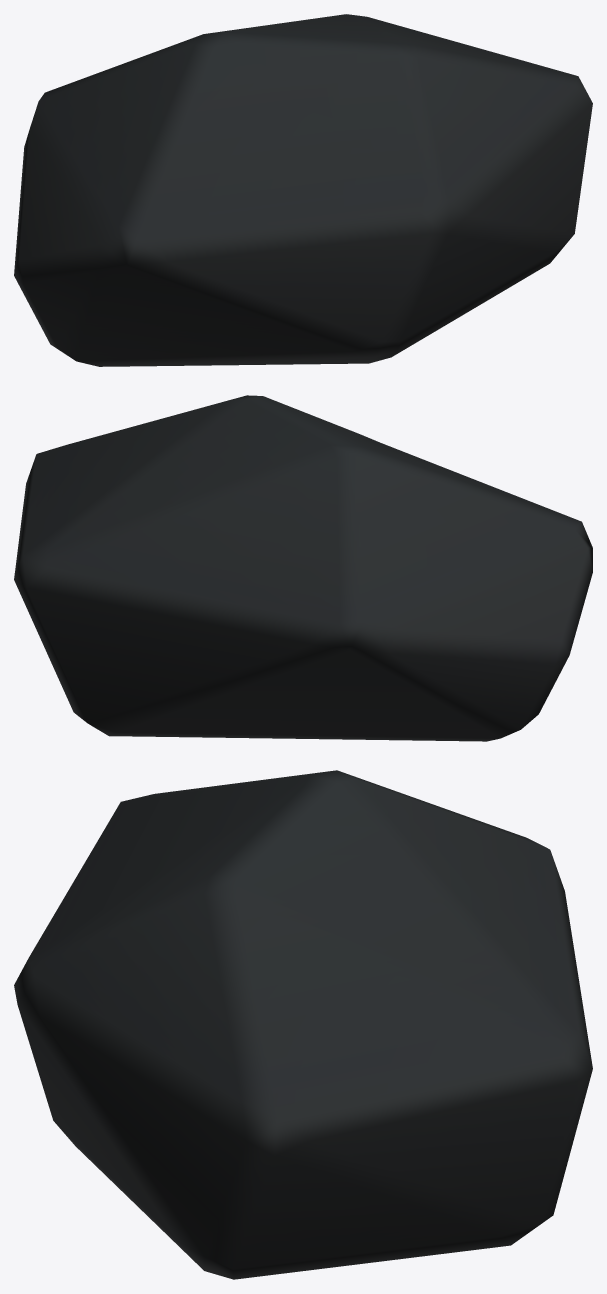
The model's file is inferno-stone-small-001.glb.
3 renders of one model, top to bottom at view 1: azimuth 30°, elevation 25°; view 2: azimuth 150°, elevation 25°; view 3: azimuth 270°, elevation 25°, orthographic. The views are drawn at different scales.
Parts seen in each view (by area): view 1: StoneSmall_001; view 2: StoneSmall_001; view 3: StoneSmall_001.
Part boxes in pixels (bbox=[...]): StoneSmall_001: bbox=[14, 14, 592, 366]; StoneSmall_001: bbox=[14, 395, 592, 741]; StoneSmall_001: bbox=[14, 770, 592, 1279].
Size of the model in its own units: 2.44 by 1.38 by 1.75.
Materials: 1 (1 with a texture image).
